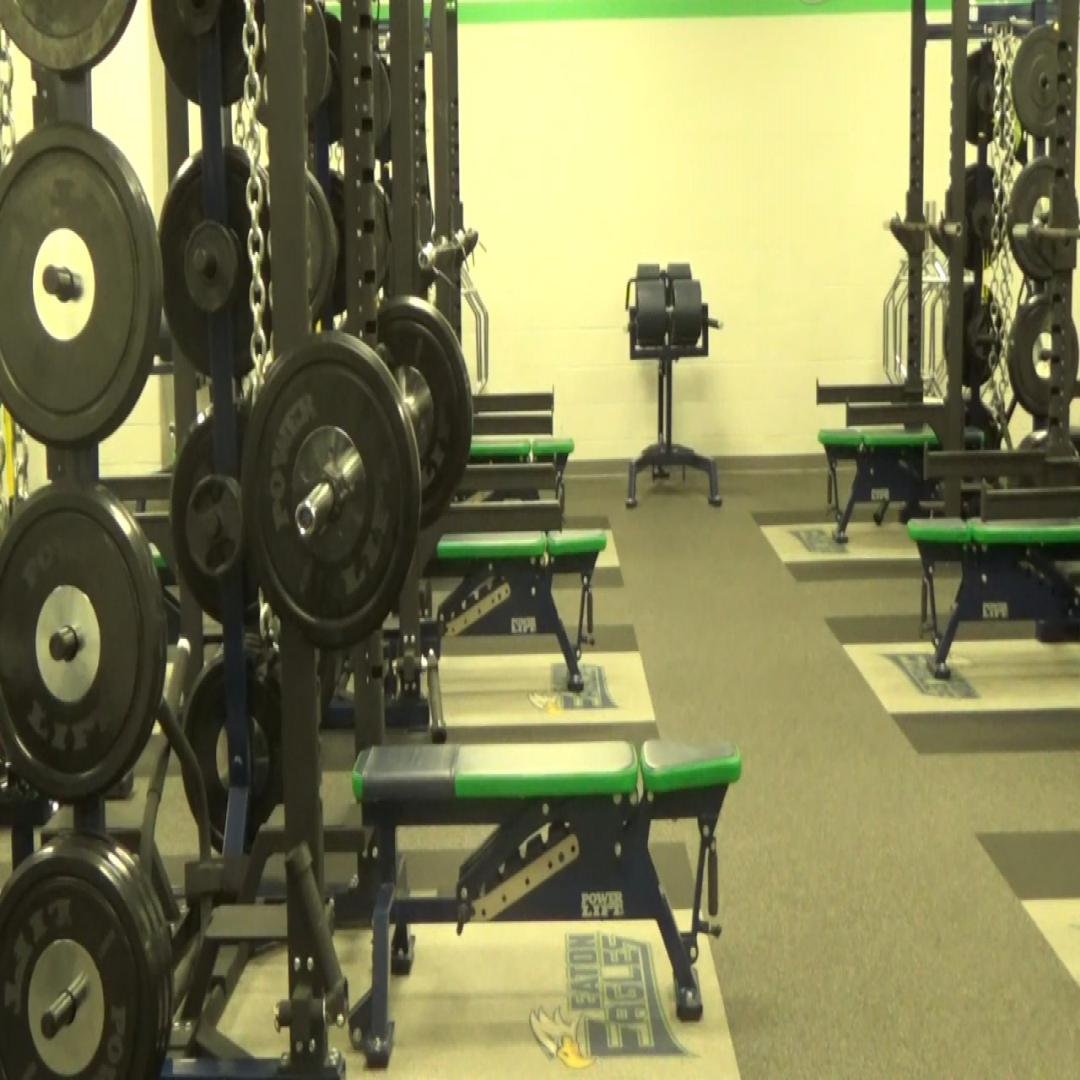Bar: (294, 500, 316, 540)
Barbell: (241, 329, 423, 650)
